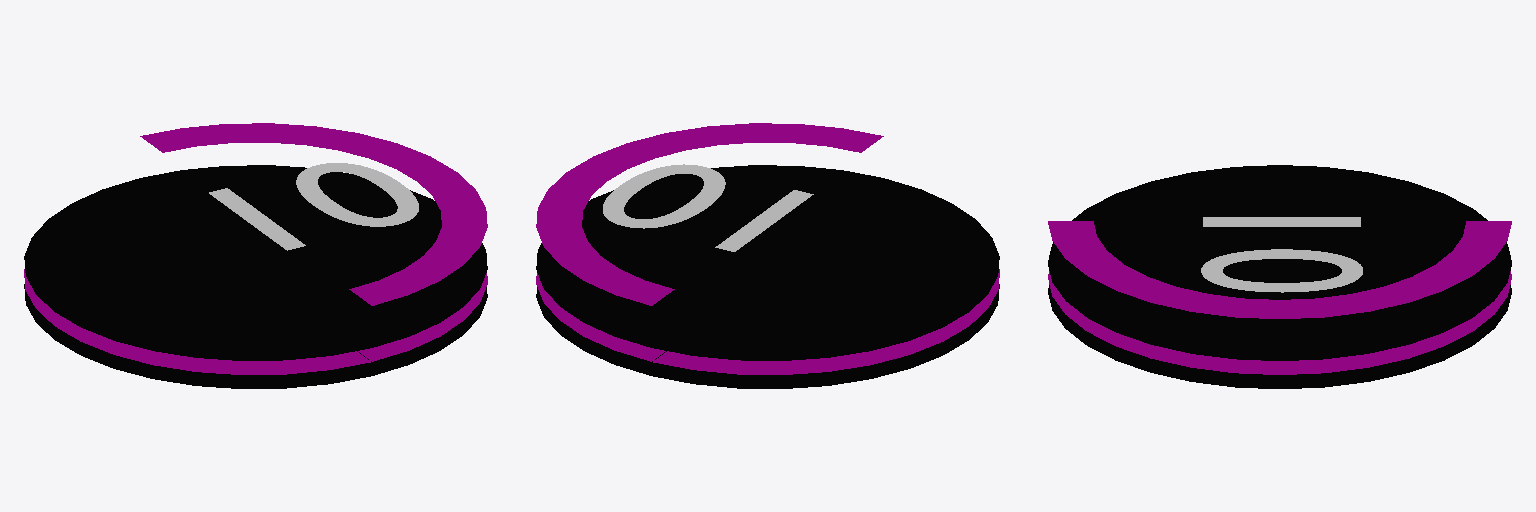
File: test_timer.obj
3 views of the same model, side by side, from view 1: azimuth 30°, elevation 25°; view 2: azimuth 150°, elevation 25°; view 3: azimuth 270°, elevation 25° (orthographic).
Parts seen in each view (by area): view 1: left_wipe_Circle.002, right_wipe_Circle.001, top_right_prog_Circle.003, backface_Circle, Text, left_prog_Circle.004, top_right_prog.001_Circle.005; view 2: left_wipe_Circle.002, right_wipe_Circle.001, top_right_prog_Circle.003, backface_Circle, Text, left_prog_Circle.004, top_right_prog.001_Circle.005; view 3: left_wipe_Circle.002, right_wipe_Circle.001, top_right_prog_Circle.003, backface_Circle, top_right_prog.001_Circle.005, Text.
Part boxes in pixels (x1,y1,x2,y2): left_wipe_Circle.002: (24,178,370,360); right_wipe_Circle.001: (140,165,487,347); top_right_prog_Circle.003: (140,123,487,305); backface_Circle: (24,284,487,388); Text: (209,163,418,250); left_prog_Circle.004: (24,269,370,374); top_right_prog.001_Circle.005: (358,273,487,361); left_wipe_Circle.002: (653,178,999,360); right_wipe_Circle.001: (536,165,883,347); top_right_prog_Circle.003: (536,123,883,305); backface_Circle: (536,284,999,388); Text: (603,164,813,251); left_prog_Circle.004: (653,269,999,374); top_right_prog.001_Circle.005: (536,273,665,361); left_wipe_Circle.002: (1048,165,1511,262); right_wipe_Circle.001: (1048,263,1511,360); top_right_prog_Circle.003: (1048,221,1511,318); backface_Circle: (1048,285,1511,388); top_right_prog.001_Circle.005: (1048,277,1511,374); Text: (1201,217,1362,292).
Bounding box in the file's own units: 2 × 0.3348 × 2.